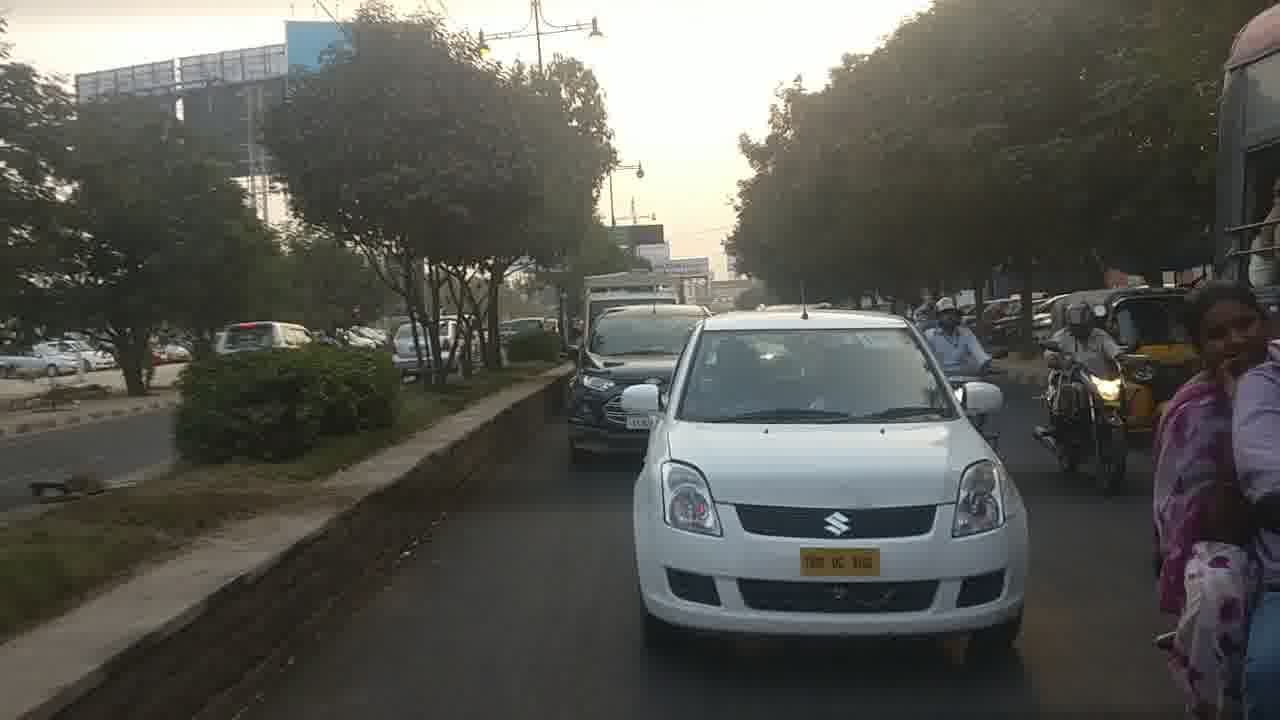swift desire: (641, 328, 1028, 627)
